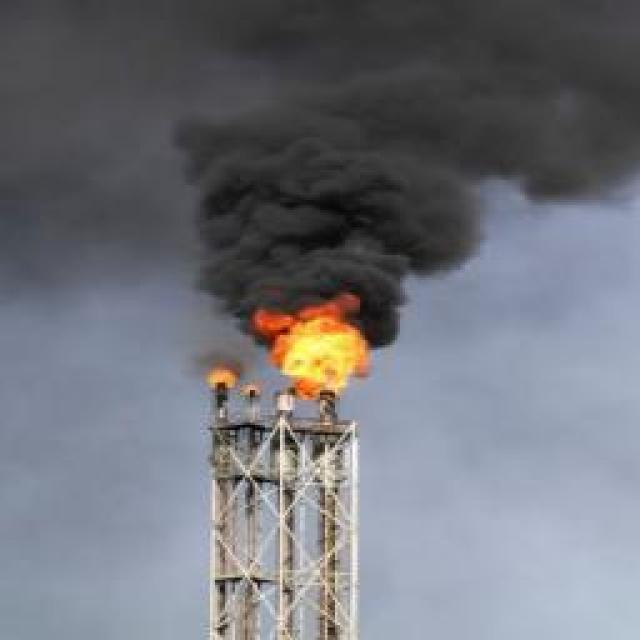fire: (255, 293, 370, 399), (207, 366, 238, 389), (240, 385, 258, 394)
smoke: (0, 0, 640, 349), (184, 351, 239, 381)
